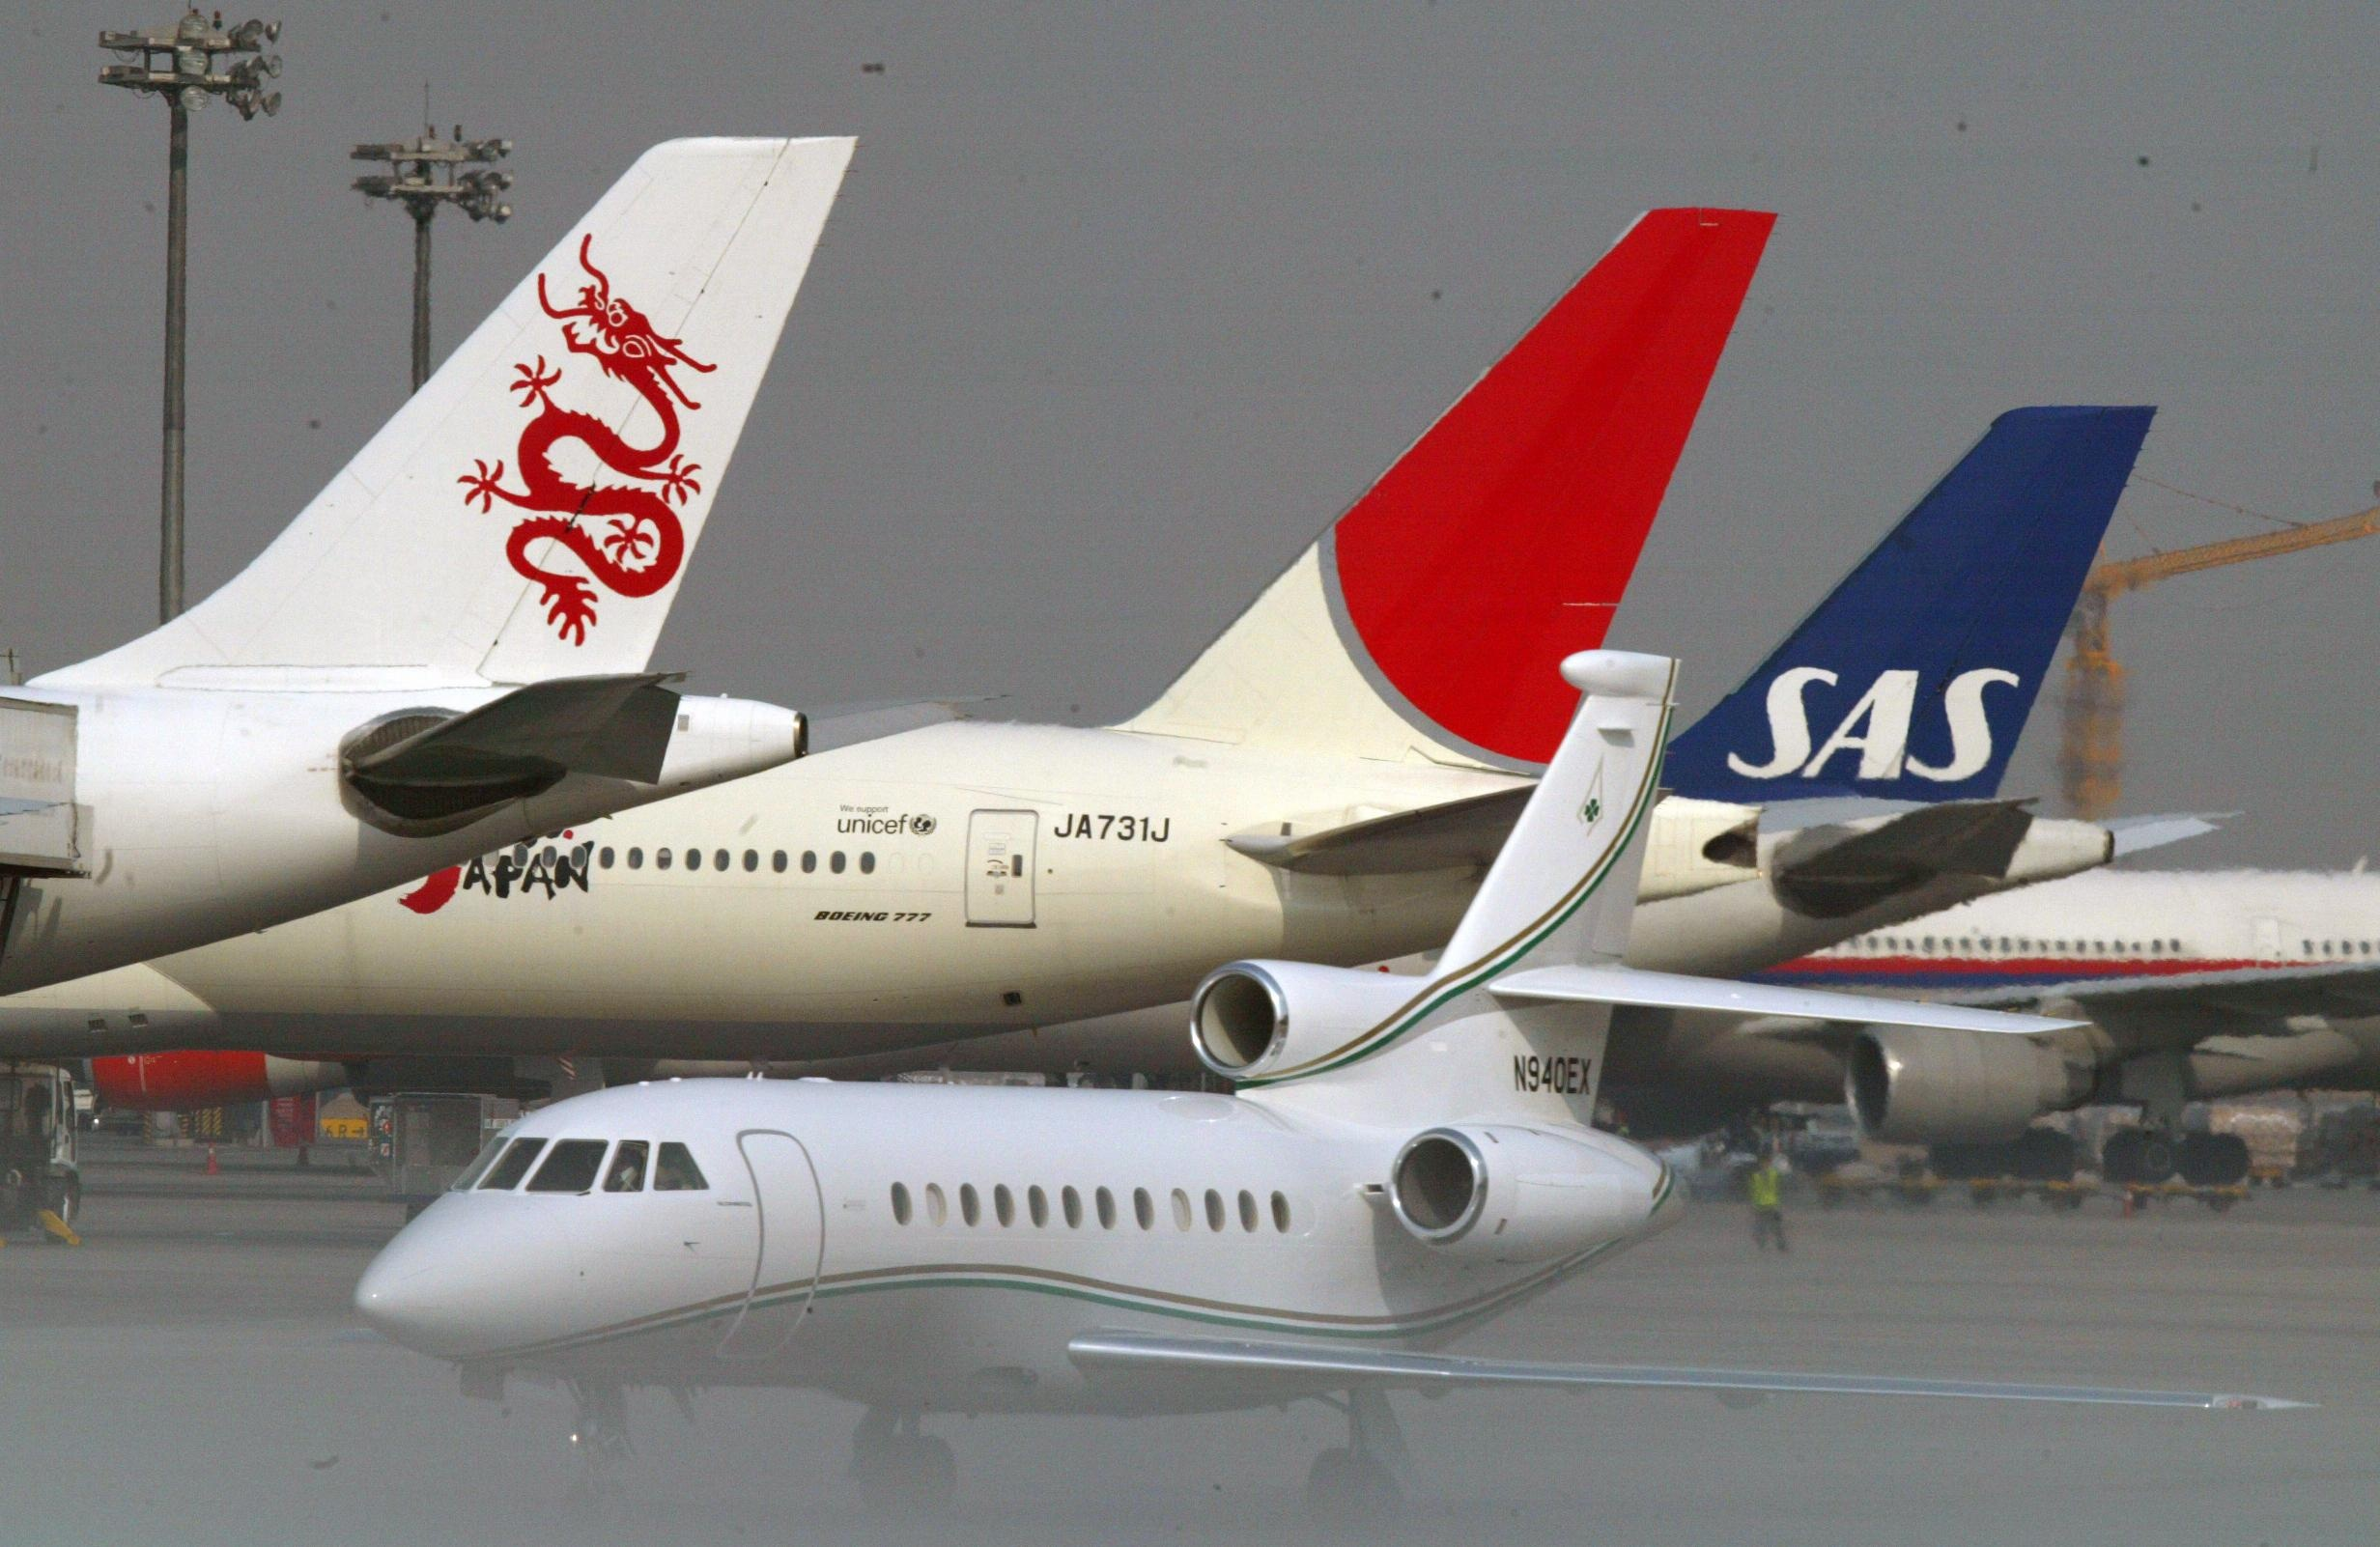airplane: (343, 649, 2276, 1441)
